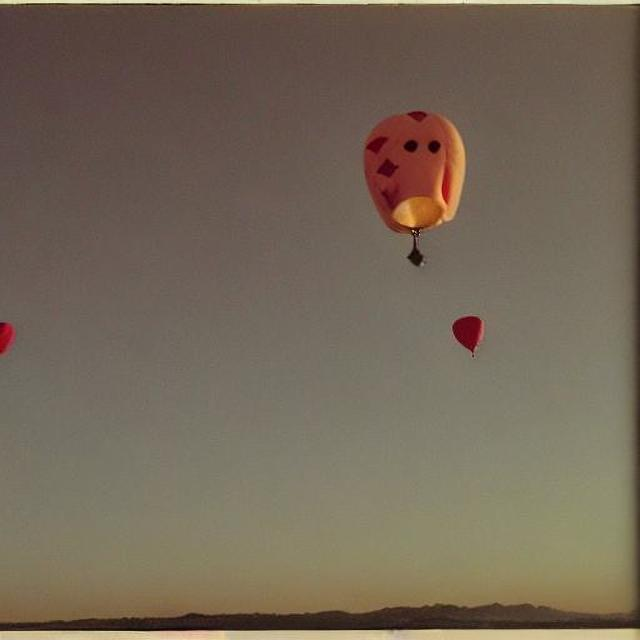balloon: (358, 107, 466, 238), (448, 311, 484, 358)
